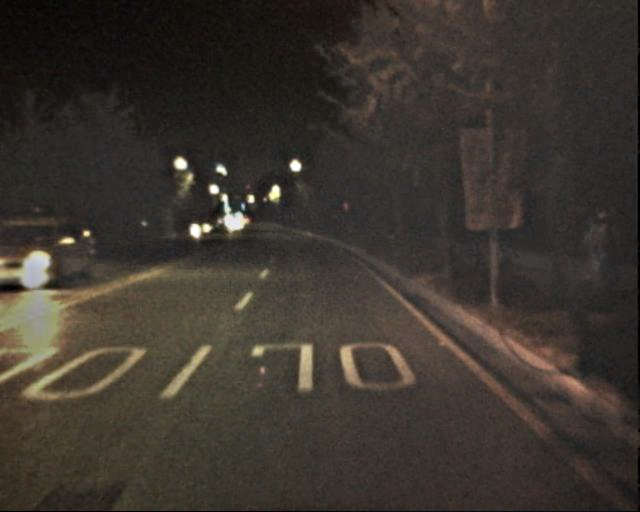person: (578, 205, 618, 302)
